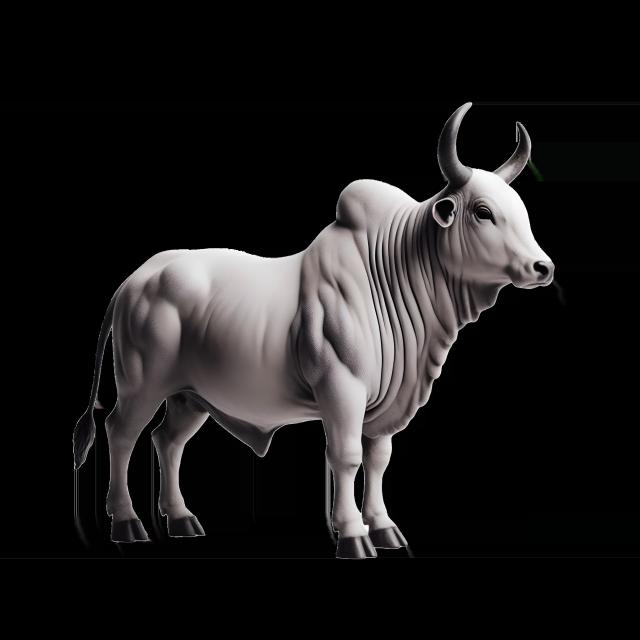Ox: (62, 96, 552, 554)
